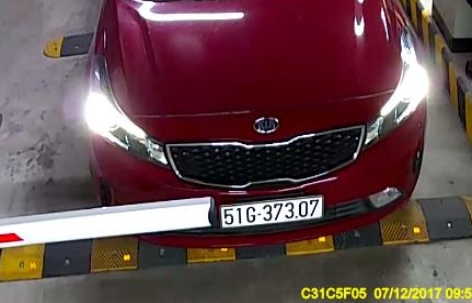plate: (218, 191, 328, 227)
